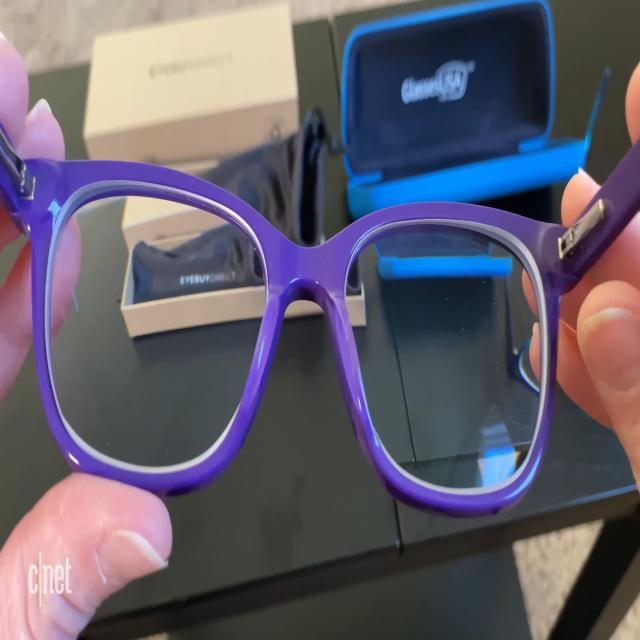glasses: (22, 134, 570, 532)
